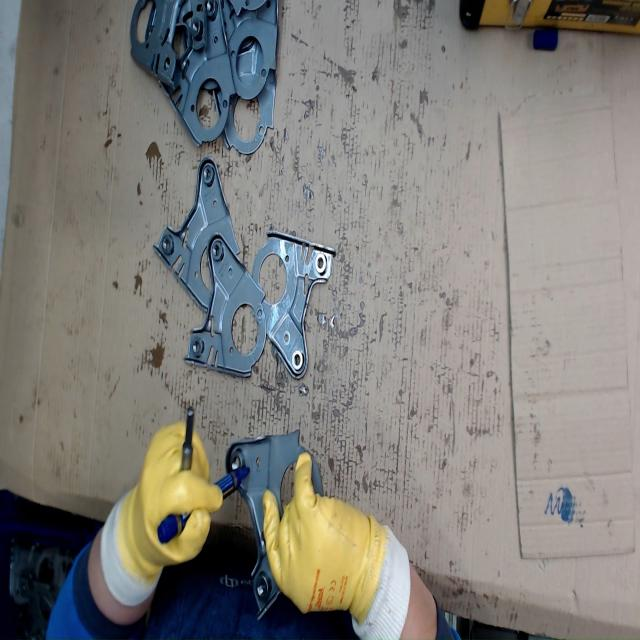hands: (261, 450, 378, 616), (124, 418, 223, 576)
